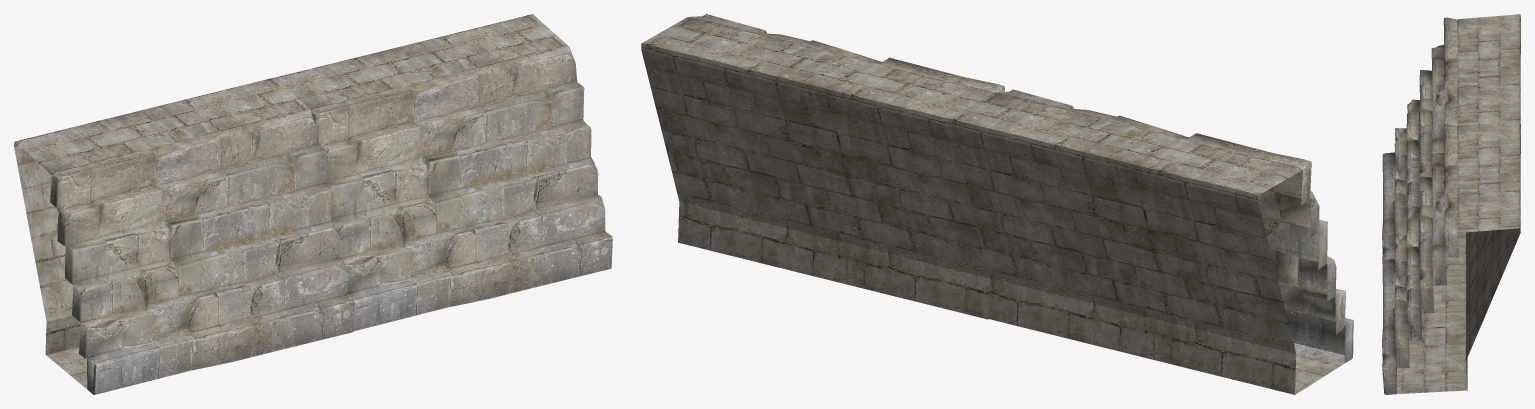
The model's file is Stair3.fbx.
3 views of the same model, side by side, from view 1: azimuth 30°, elevation 25°; view 2: azimuth 150°, elevation 25°; view 3: azimuth 270°, elevation 25° (orthographic). The views are drawn at different scales.
Visible parts, largest first — view 1: LV_Nigraturis_Stairs02_SM_HSH.001; view 2: LV_Nigraturis_Stairs02_SM_HSH.001; view 3: LV_Nigraturis_Stairs02_SM_HSH.001.
Boxes of the visible parts, x1,y1,x2,y2 form: LV_Nigraturis_Stairs02_SM_HSH.001: [14, 14, 612, 394]; LV_Nigraturis_Stairs02_SM_HSH.001: [641, 14, 1353, 394]; LV_Nigraturis_Stairs02_SM_HSH.001: [1382, 14, 1520, 394].
Bounding box in the file's own units: 2.12 × 0.7677 × 0.5758.
2 materials, 2 textured.
